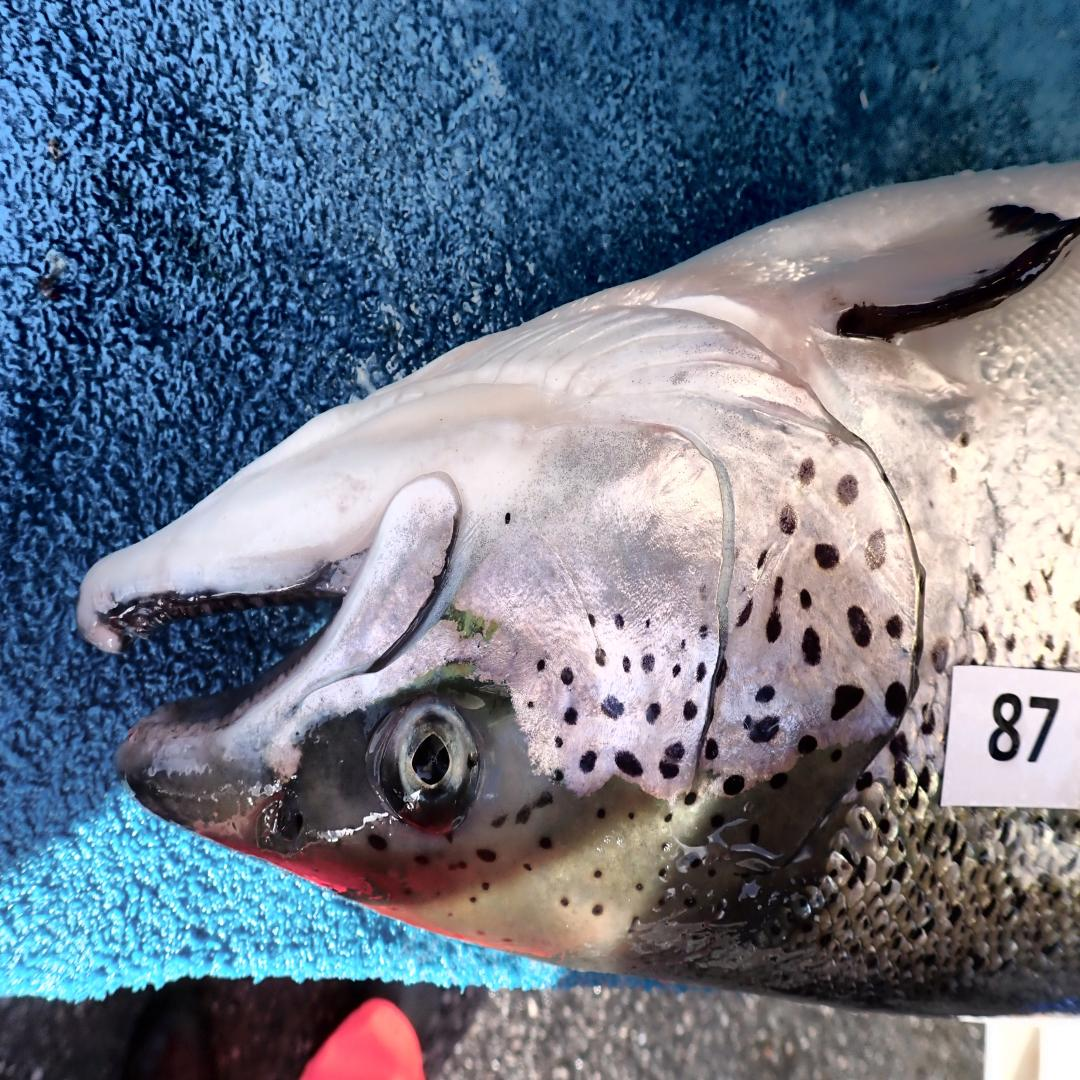spot: (831, 683, 863, 720), (658, 740, 685, 780), (848, 605, 871, 647), (745, 714, 778, 743), (865, 529, 886, 571), (801, 627, 821, 667), (885, 681, 907, 717), (614, 751, 643, 778), (837, 475, 859, 506), (814, 543, 840, 568), (601, 695, 624, 721), (778, 503, 797, 534), (766, 608, 783, 641), (724, 773, 745, 796), (737, 599, 752, 627), (799, 458, 815, 484), (886, 615, 903, 639), (797, 734, 816, 754), (580, 751, 597, 773), (715, 658, 728, 686), (755, 685, 774, 704), (645, 704, 661, 726), (704, 737, 719, 760), (563, 706, 578, 726), (640, 654, 654, 675), (683, 700, 697, 721), (799, 588, 812, 610), (561, 667, 574, 685), (774, 577, 784, 599), (757, 550, 768, 569), (696, 663, 706, 683), (595, 649, 605, 667), (614, 614, 624, 630), (622, 655, 631, 672), (698, 625, 708, 640), (685, 792, 696, 805), (536, 658, 546, 672), (672, 663, 681, 677), (555, 769, 563, 782), (588, 614, 595, 628), (555, 737, 563, 748), (504, 512, 510, 523), (645, 618, 650, 628), (681, 639, 686, 649), (527, 701, 533, 709)
